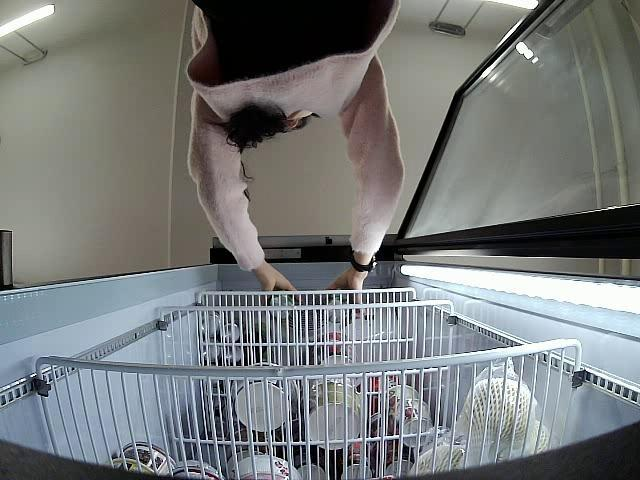18_trevi: (267, 288, 298, 321), (322, 294, 350, 326)
